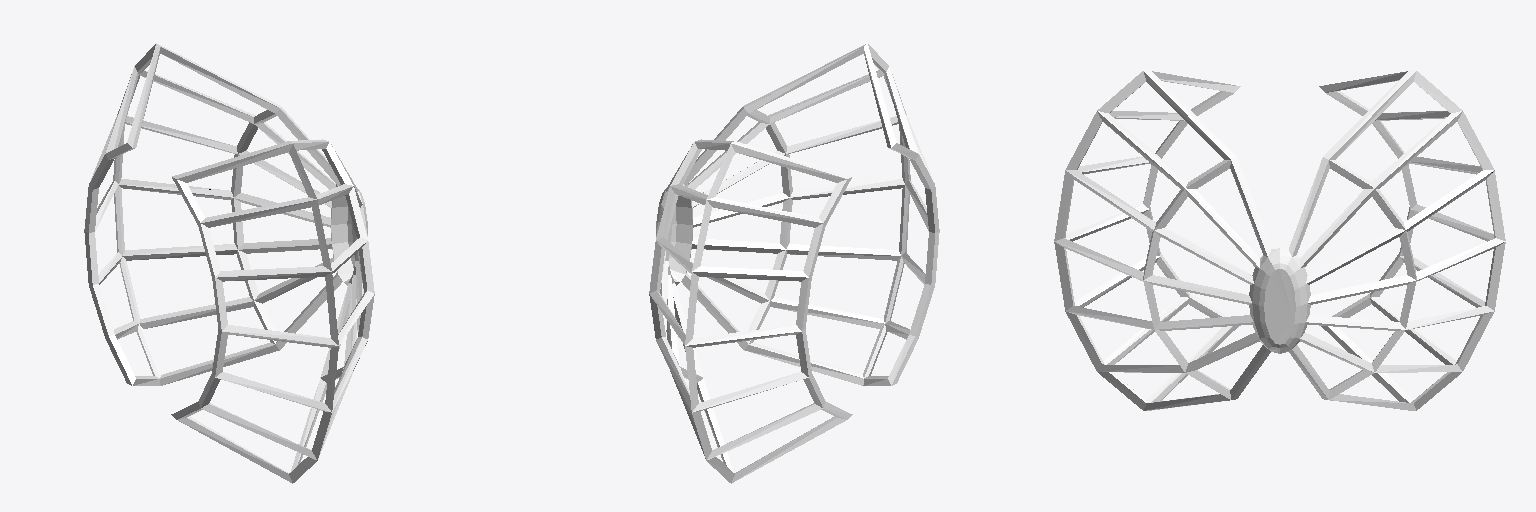
3 renders of one model, left to right at view 1: azimuth 30°, elevation 25°; view 2: azimuth 150°, elevation 25°; view 3: azimuth 270°, elevation 25°, orthographic.
Parts seen in each view (by area): view 1: Circle; view 2: Circle; view 3: Circle.
Boxes of the visible parts, x1=… form: Circle: x1=84, y1=43, x2=374, y2=483; Circle: x1=649, y1=43, x2=939, y2=483; Circle: x1=1054, y1=70, x2=1505, y2=410.
Bounding box in the file's own units: 4.58 × 7.15 × 8.59.
1 materials, 1 textured.